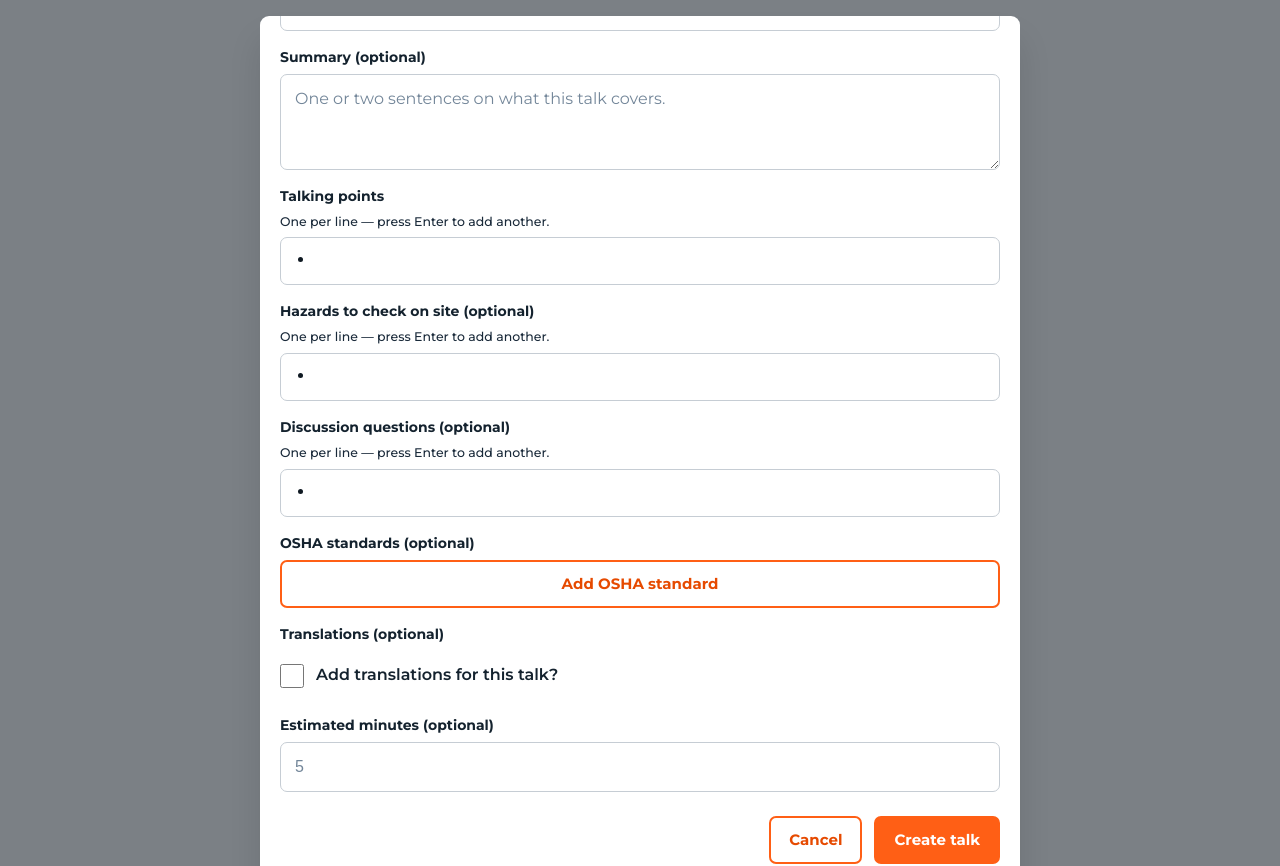
Test: TalkForm › translations › shows an offline note, not the checklist, once toggled on when access exists but the device is offline
(page scrolled)
Click the checkbox labelled "Add translations for this talk?" at (292, 676), box top-left (280, 664), bottom-right (304, 688)
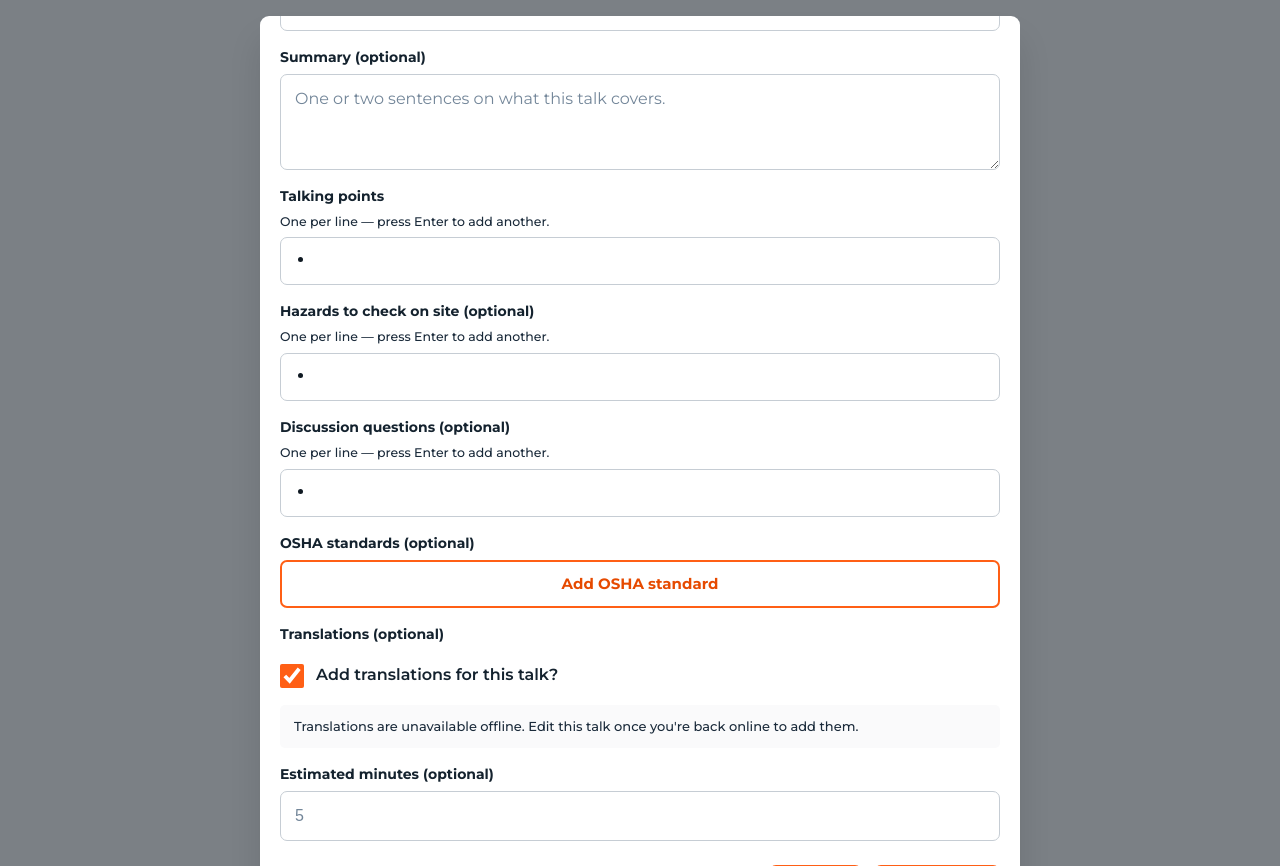
Result: the text "unavailable offline" is shown at top-left (294, 718), bottom-right (858, 734)
